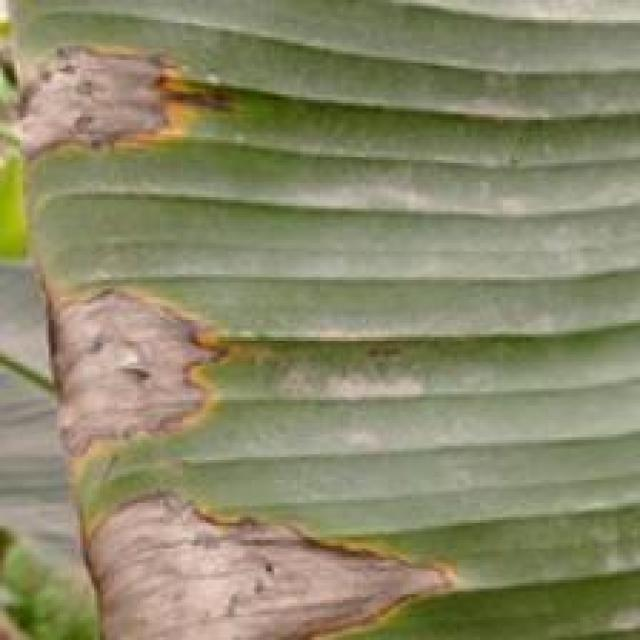Bacterial_spot: (68, 474, 466, 640), (36, 278, 244, 476), (0, 35, 245, 168)
